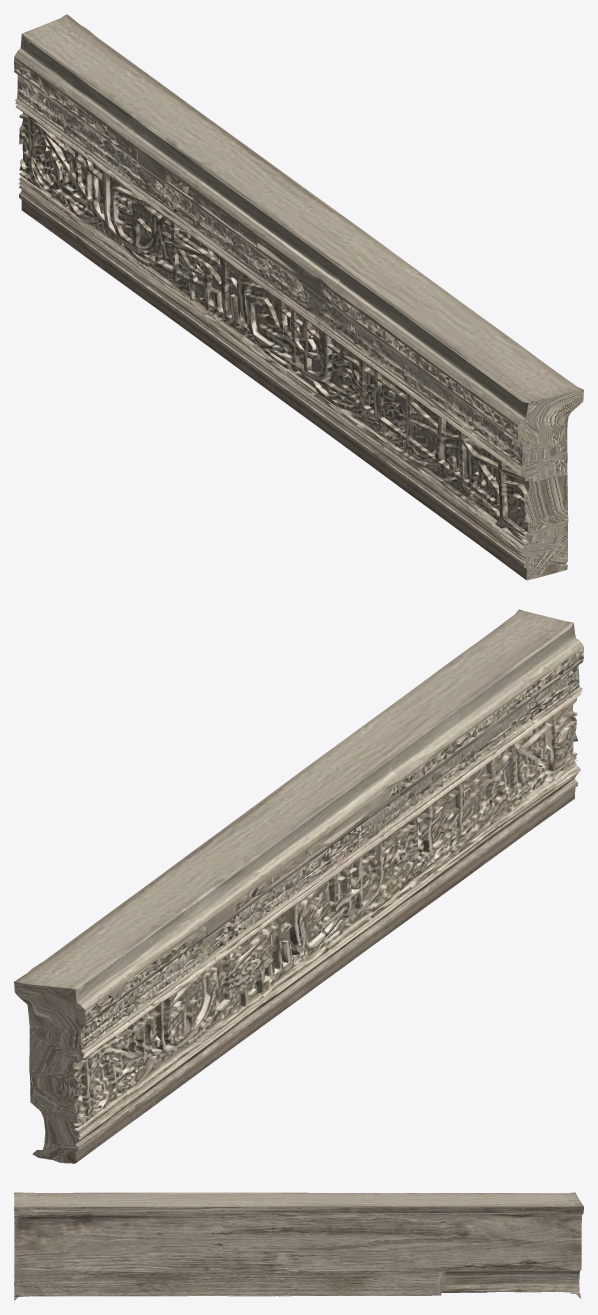
File: JieGou_16_597426.glb
The picture shows the model from 3 angles, top to bottom: view 1: azimuth 30°, elevation 25°; view 2: azimuth 150°, elevation 25°; view 3: azimuth 270°, elevation 25°; orthographic projection. The views are drawn at different scales.
Visible parts, largest first — view 1: JieGou_16; view 2: JieGou_16; view 3: JieGou_16.
Boxes of the visible parts, box(x1,y1,x2,y2) form: JieGou_16: box(14, 14, 583, 580); JieGou_16: box(14, 609, 583, 1163); JieGou_16: box(14, 1192, 583, 1300).
Size of the model in its own units: 0.2278 by 0.5693 by 2.98.
1 material, 1 textured.
